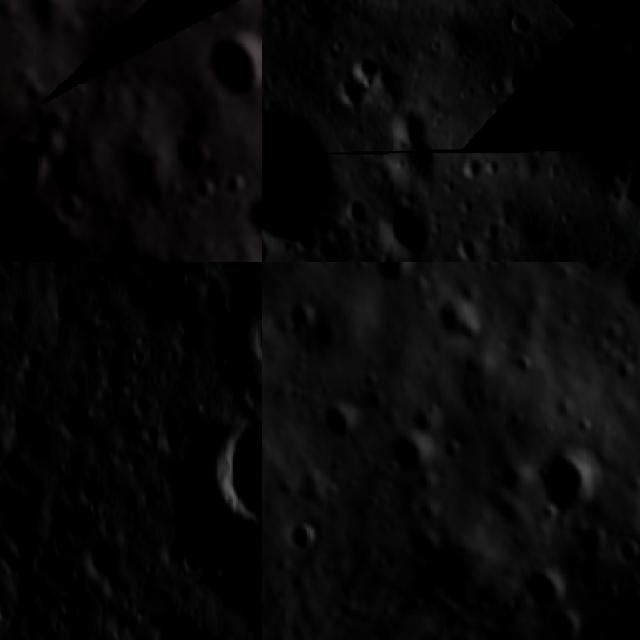crater: (262, 94, 342, 254), (199, 408, 262, 535), (537, 41, 608, 121), (374, 196, 441, 262), (201, 35, 262, 104), (68, 530, 128, 596), (547, 447, 598, 523), (0, 125, 50, 192), (146, 600, 226, 640), (233, 286, 262, 380), (169, 121, 214, 177), (523, 561, 568, 604), (388, 434, 430, 476), (344, 50, 381, 97), (54, 187, 92, 231), (320, 402, 359, 440), (498, 61, 534, 101), (496, 5, 534, 42), (282, 523, 326, 554), (373, 262, 427, 285), (281, 305, 315, 340), (550, 614, 590, 640), (299, 0, 333, 30), (221, 171, 257, 197), (242, 193, 262, 239), (444, 434, 470, 466), (619, 264, 640, 303), (198, 170, 222, 203), (621, 532, 640, 572), (511, 353, 540, 375), (613, 362, 637, 383), (212, 0, 243, 16), (262, 228, 275, 262)
